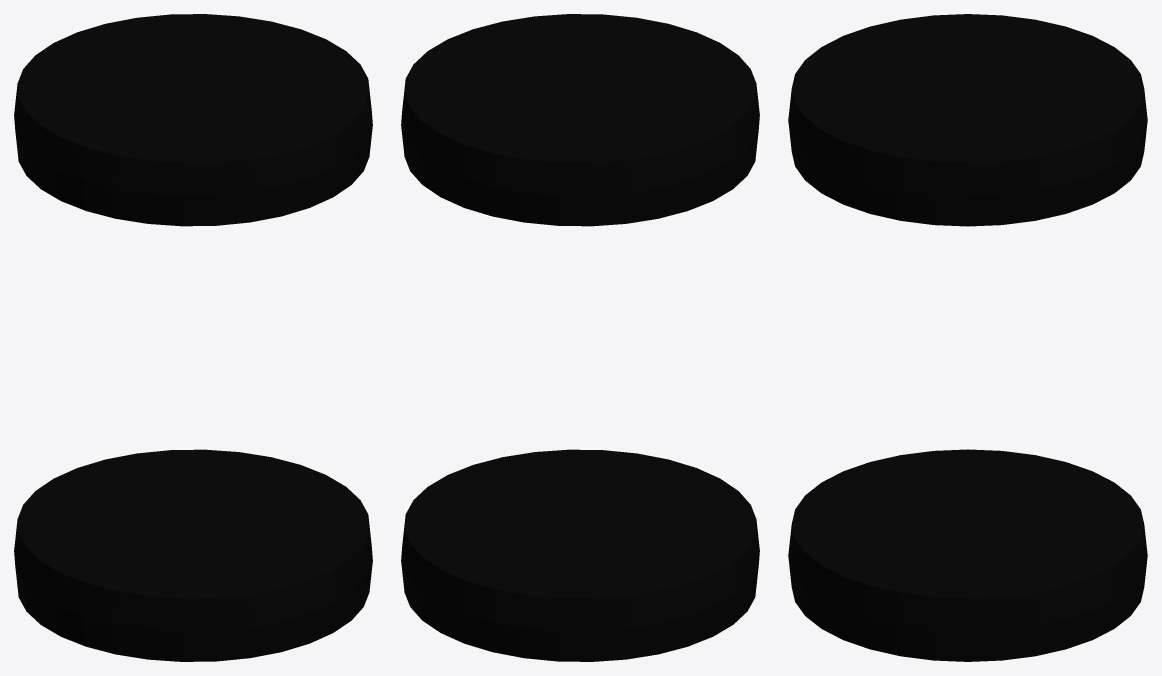
Rendered from inactivePortal.obj.
3 views of the same model, side by side, from view 1: azimuth 30°, elevation 25°; view 2: azimuth 150°, elevation 25°; view 3: azimuth 270°, elevation 25° (orthographic).
Visible parts, largest first — view 1: PortalColor_Torus; view 2: PortalColor_Torus; view 3: PortalColor_Torus.
Boxes of the visible parts, x1,y1,x2,y2 form: PortalColor_Torus: (14, 14, 372, 661); PortalColor_Torus: (401, 14, 759, 661); PortalColor_Torus: (788, 14, 1147, 661).
Size of the model in its own units: 3 by 4.6 by 3.
